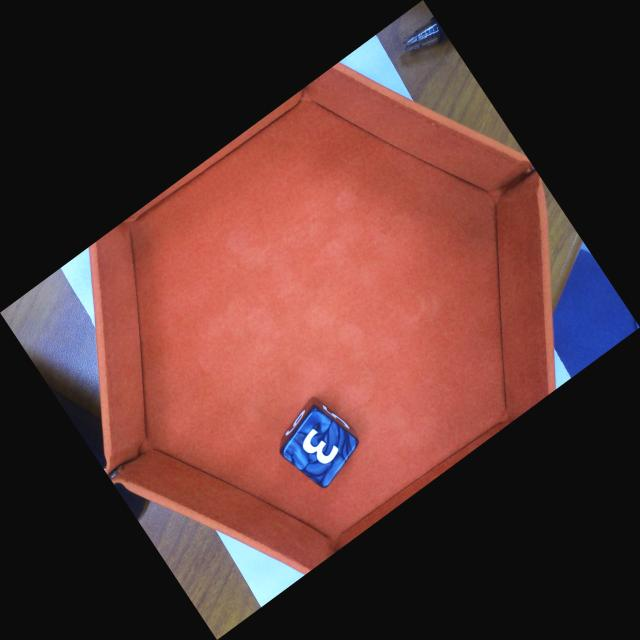dice: (280, 406, 360, 488)
